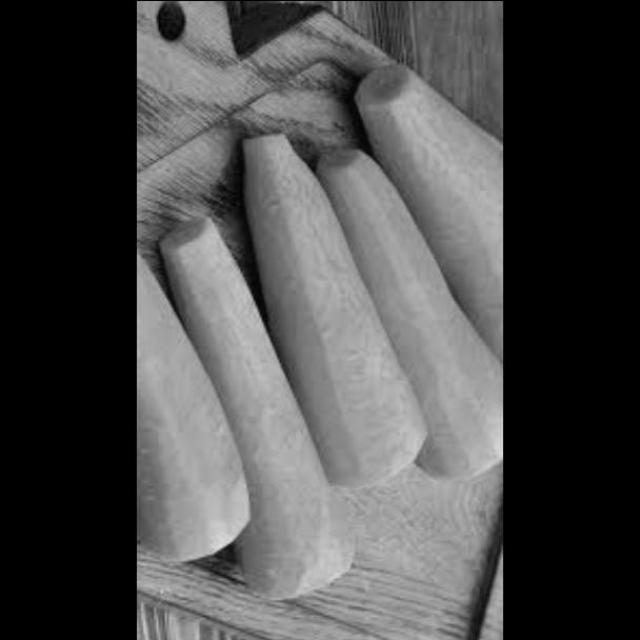ca rot: (167, 216, 364, 624), (231, 132, 426, 490), (318, 145, 505, 491), (351, 54, 504, 361), (139, 244, 253, 592)
